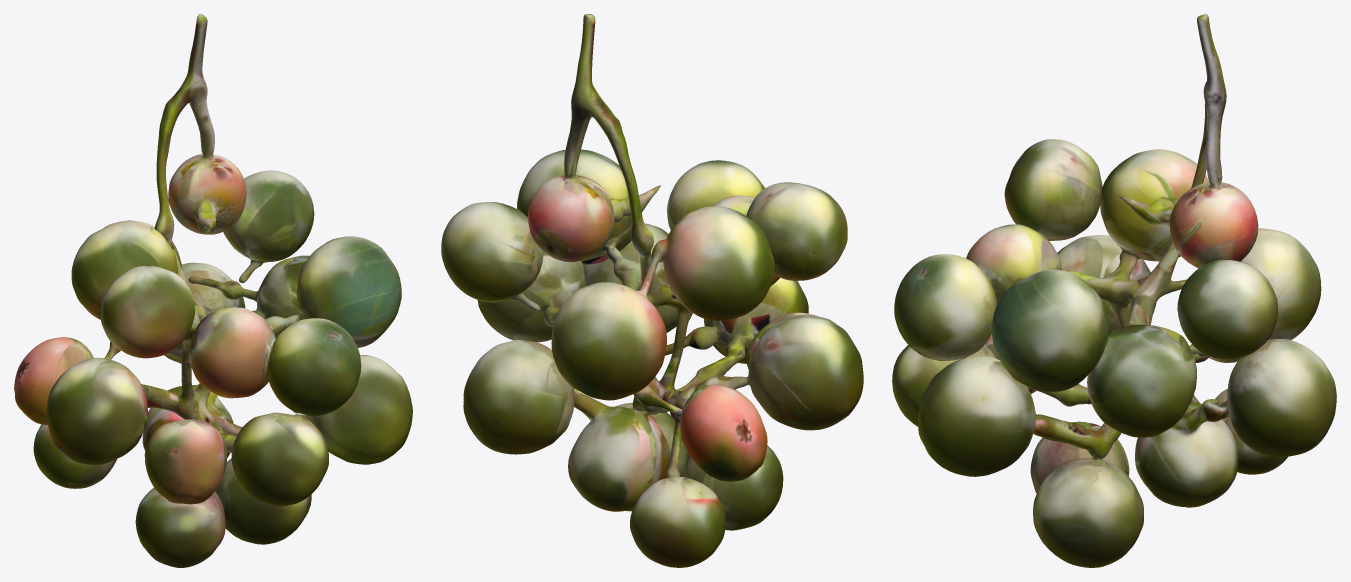
The model's file is tree0045_dup.gltf.
The picture shows the model from 3 angles, left to right: view 1: azimuth 30°, elevation 25°; view 2: azimuth 150°, elevation 25°; view 3: azimuth 270°, elevation 25°; orthographic projection. The views are drawn at different scales.
Parts seen in each view (by area): view 1: Mesh_0.053; view 2: Mesh_0.053; view 3: Mesh_0.053.
Boxes of the visible parts, x1,y1,x2,y2 form: Mesh_0.053: (14, 14, 412, 567); Mesh_0.053: (441, 14, 863, 567); Mesh_0.053: (892, 14, 1336, 567).
Bounding box in the file's own units: 1.38 × 2 × 1.49.
1 material, 1 textured.
